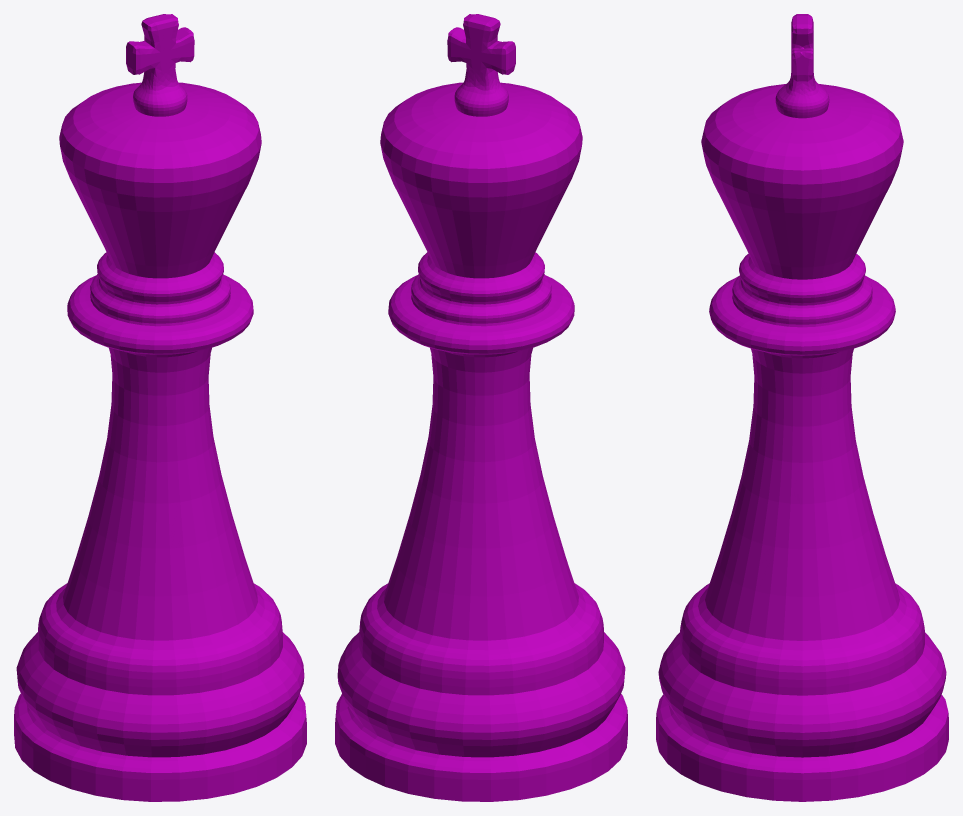
The model's file is king_b.gltf.
3 renders of one model, left to right at view 1: azimuth 30°, elevation 25°; view 2: azimuth 150°, elevation 25°; view 3: azimuth 270°, elevation 25°, orthographic.
Visible parts, largest first — view 1: King.001; view 2: King.001; view 3: King.001.
Boxes of the visible parts, left/top/right/bottom form: King.001: left=14, top=14, right=306, bottom=801; King.001: left=335, top=14, right=627, bottom=801; King.001: left=656, top=14, right=948, bottom=801.
Size of the model in its own units: 0.6356 by 1.72 by 0.6356.
